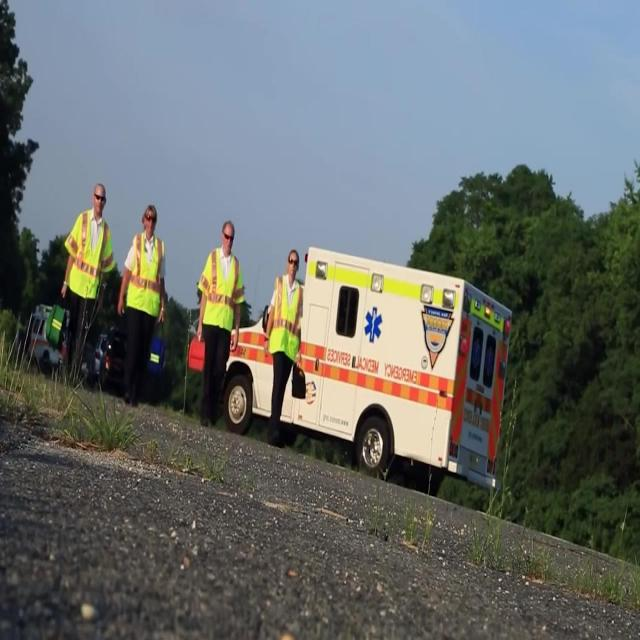Reflective-Jacket: (58, 207, 116, 307), (192, 245, 246, 338), (118, 231, 170, 325), (265, 275, 305, 365)
